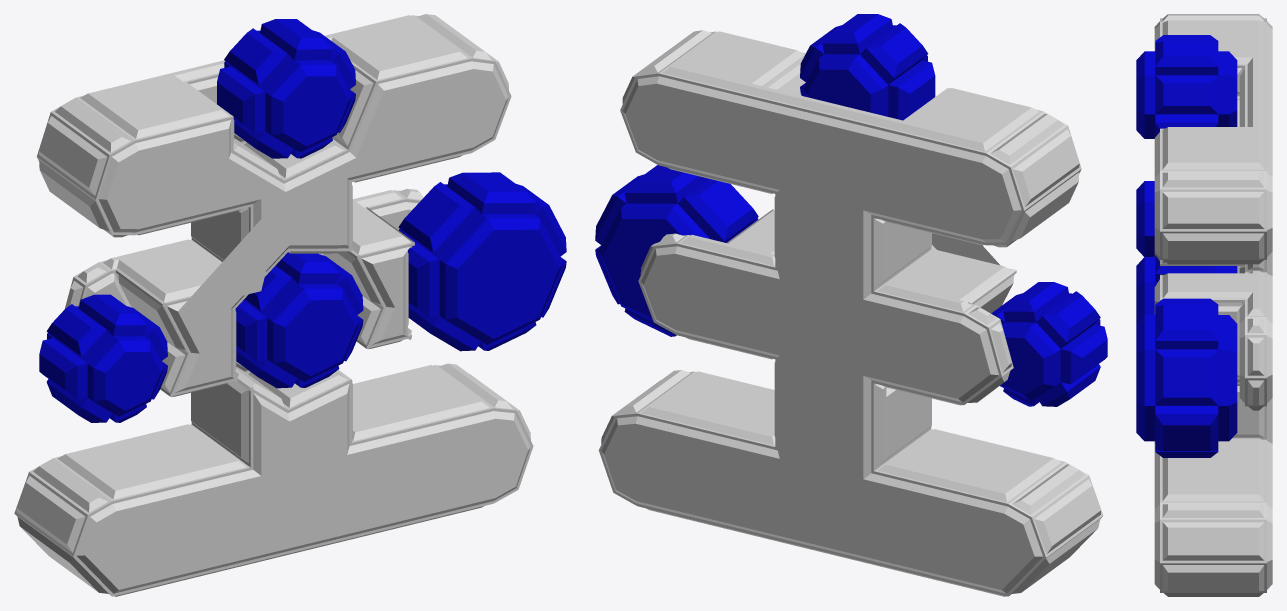
Rendered from Ch_China_王_01.fbx.
3 views of the same model, side by side, from view 1: azimuth 30°, elevation 25°; view 2: azimuth 150°, elevation 25°; view 3: azimuth 270°, elevation 25° (orthographic). The views are drawn at different scales.
Visible parts, largest first — view 1: sphere1; view 2: sphere1; view 3: sphere1.
Part boxes in pixels (x1,y1,x2,y2): sphere1: (14,14,566,596); sphere1: (595,14,1107,596); sphere1: (1136,14,1272,596).
Size of the model in its own units: 0.9785 by 0.9645 by 0.2541.
